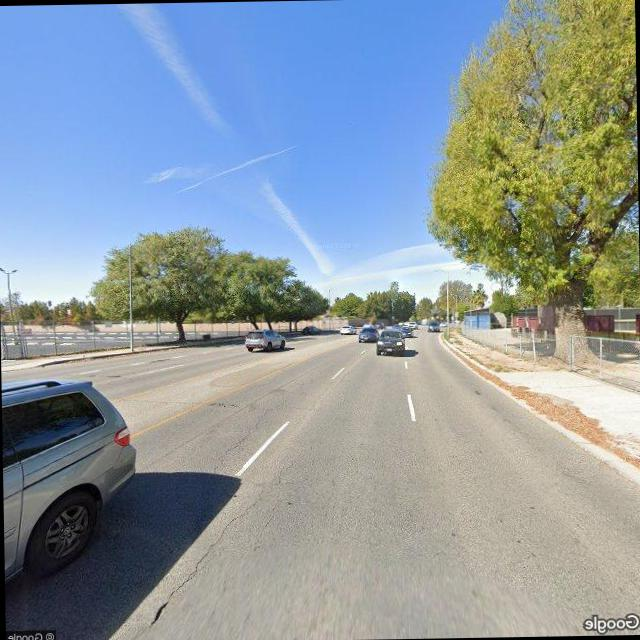pothole: (142, 456, 308, 625), (210, 411, 272, 470)
